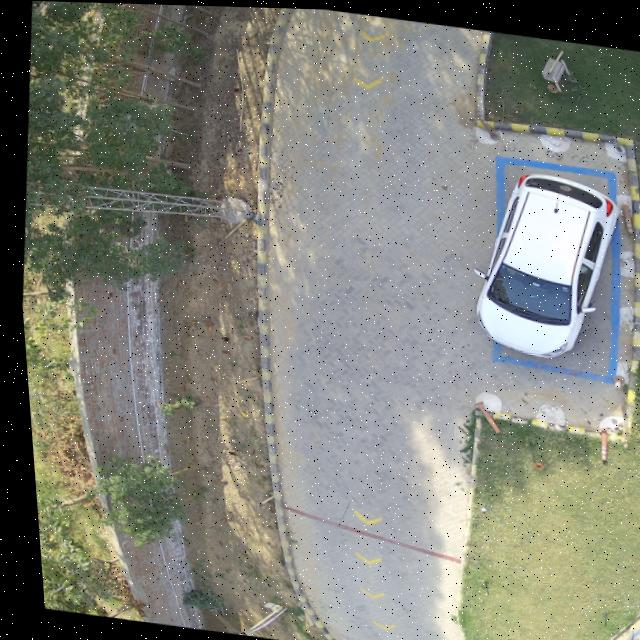car: (474, 160, 612, 355)
